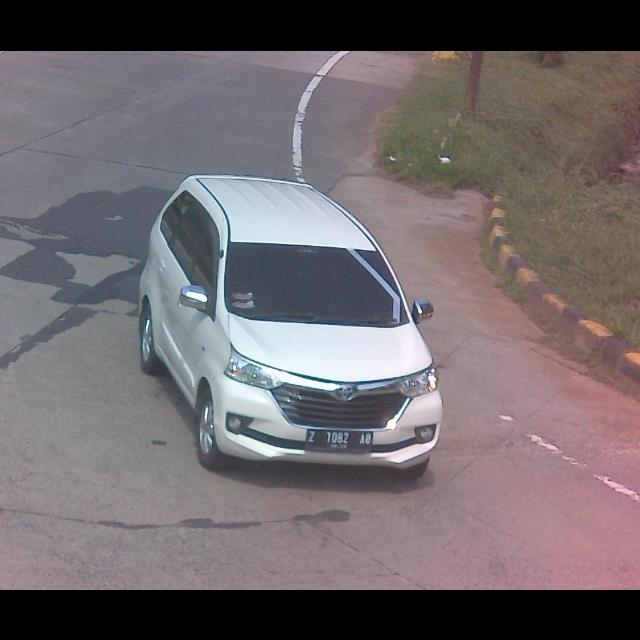plate: (306, 425, 374, 452)
